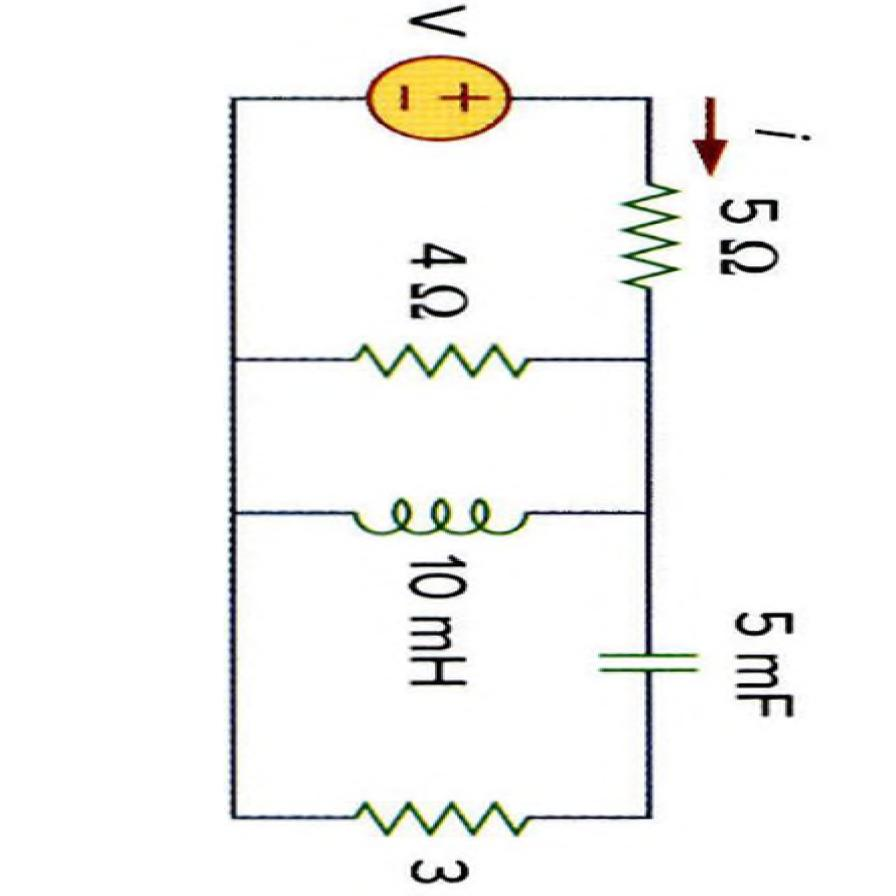V2: (347, 46, 515, 150)
